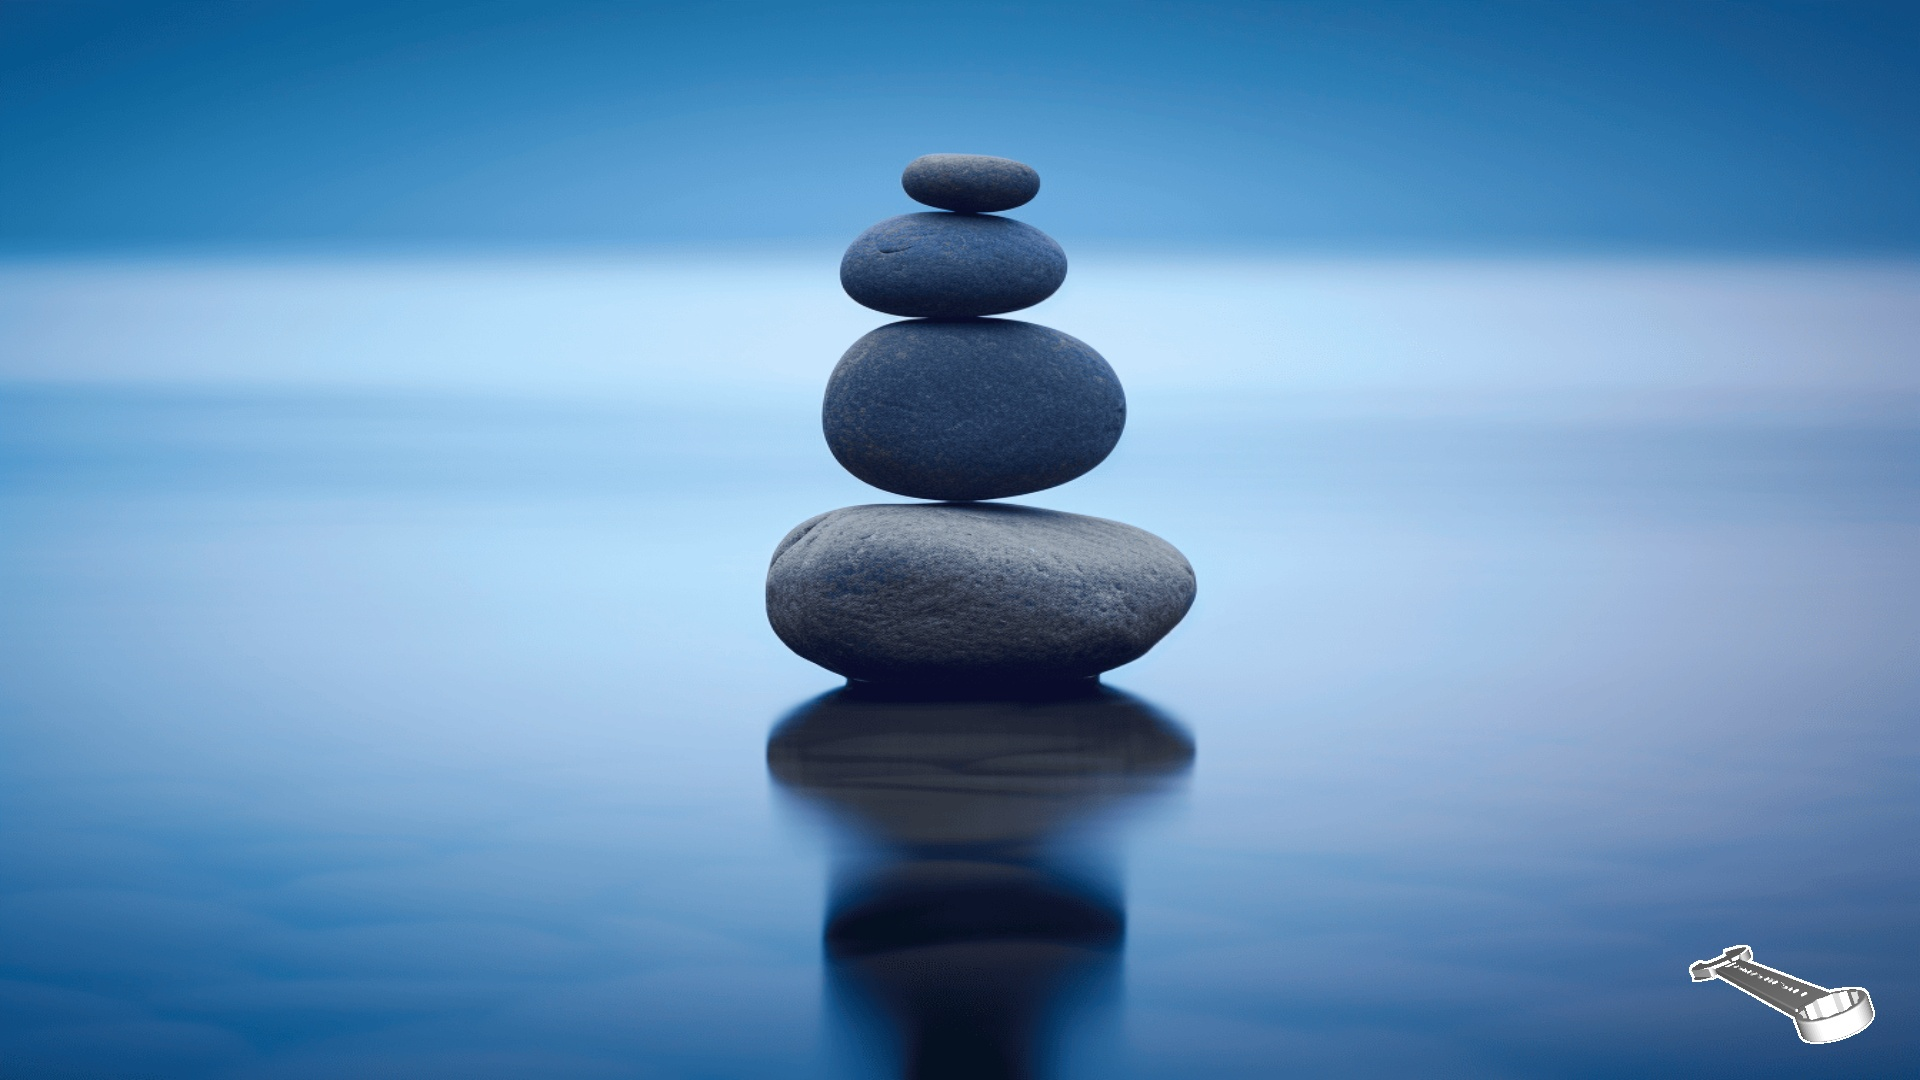Mixed Key: (1689, 945, 1874, 1043)
